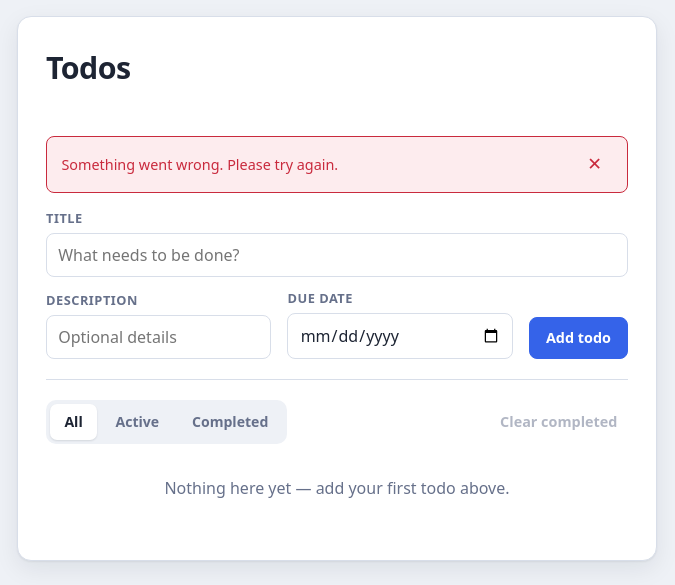
Test: App › shows a dismissible error banner when loading fails
Expected: the message shows "Something went wrong", [61, 155, 338, 174]
What coordinates should you click on to do the following:
click the button named "Dismiss error"
I would click on:
 (595, 165)
Its box is [577, 147, 613, 183].
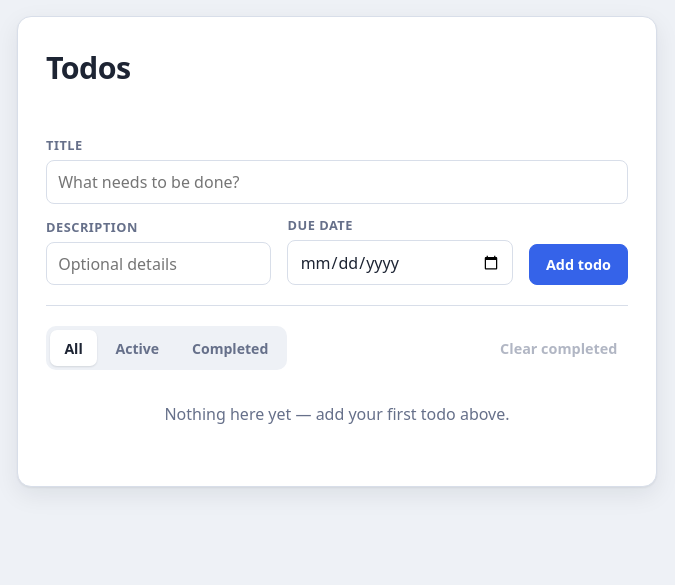
Expected: the message "Something went wrong. Please try again. ✕" is gone
